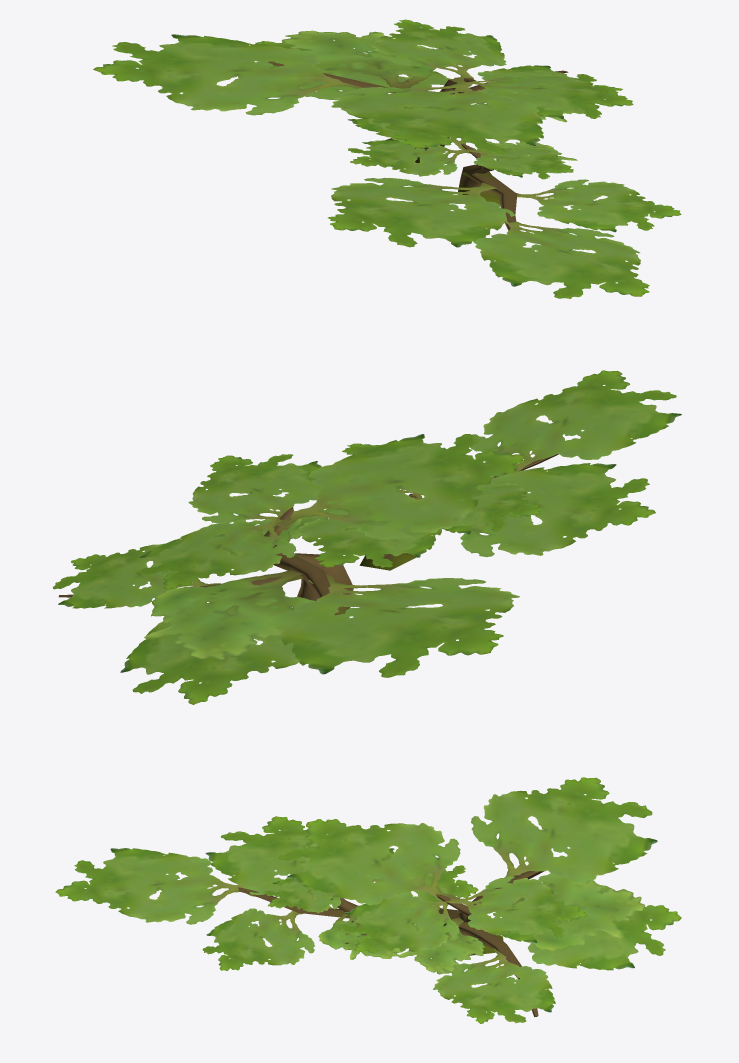
File: liemo_plant_07 (15).fbx
3 renders of one model, top to bottom at view 1: azimuth 30°, elevation 25°; view 2: azimuth 150°, elevation 25°; view 3: azimuth 270°, elevation 25°, orthographic. The views are drawn at different scales.
Parts seen in each view (by area): view 1: liemo_plant_07 (15); view 2: liemo_plant_07 (15); view 3: liemo_plant_07 (15).
Part boxes in pixels (left/top/right/bottom): liemo_plant_07 (15): left=93, top=19, right=681, bottom=298; liemo_plant_07 (15): left=53, top=370, right=682, bottom=704; liemo_plant_07 (15): left=55, top=777, right=681, bottom=1023.
Size of the model in its own units: 9.91 by 1.99 by 14.23.
